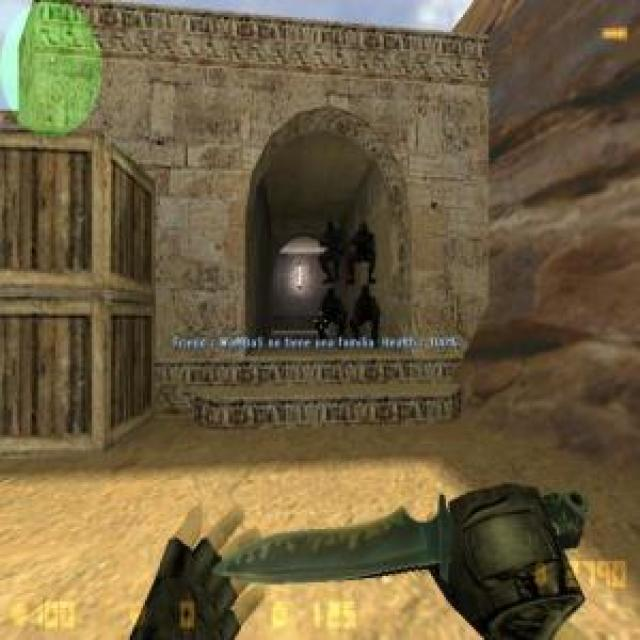knife: (211, 484, 604, 588)
